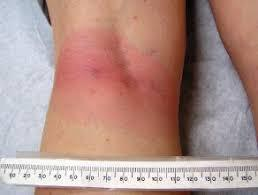Tick: (56, 37, 162, 115)
